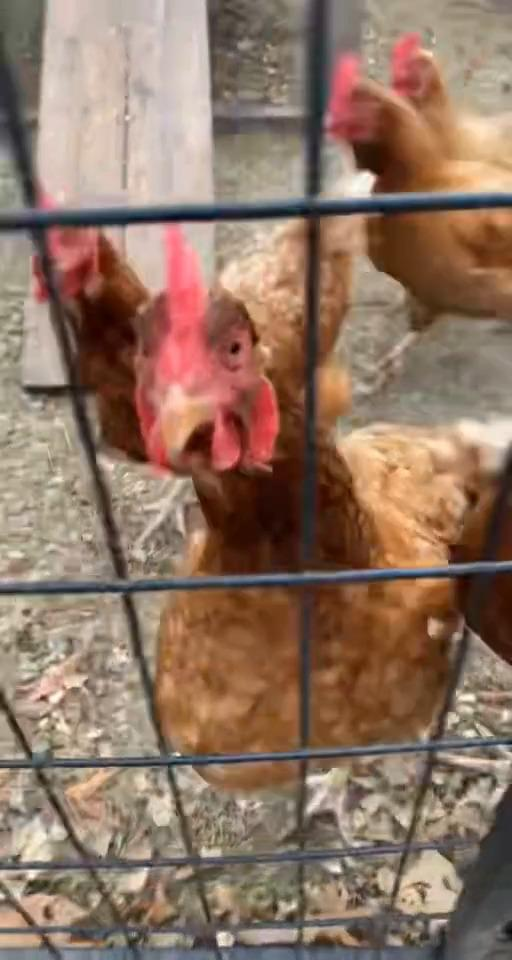rooster: (131, 220, 510, 848), (22, 171, 378, 549), (321, 54, 511, 394), (386, 33, 511, 171), (449, 437, 511, 668)
